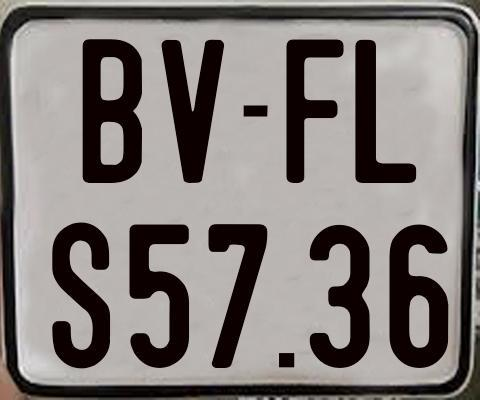3: (308, 224, 373, 370)
5: (128, 224, 194, 370)
6: (387, 222, 448, 368)
7: (208, 221, 273, 369)
B: (82, 39, 144, 189)
F: (283, 39, 342, 189)
L: (353, 37, 417, 180)
S: (52, 219, 116, 366)
V: (161, 37, 228, 180)
